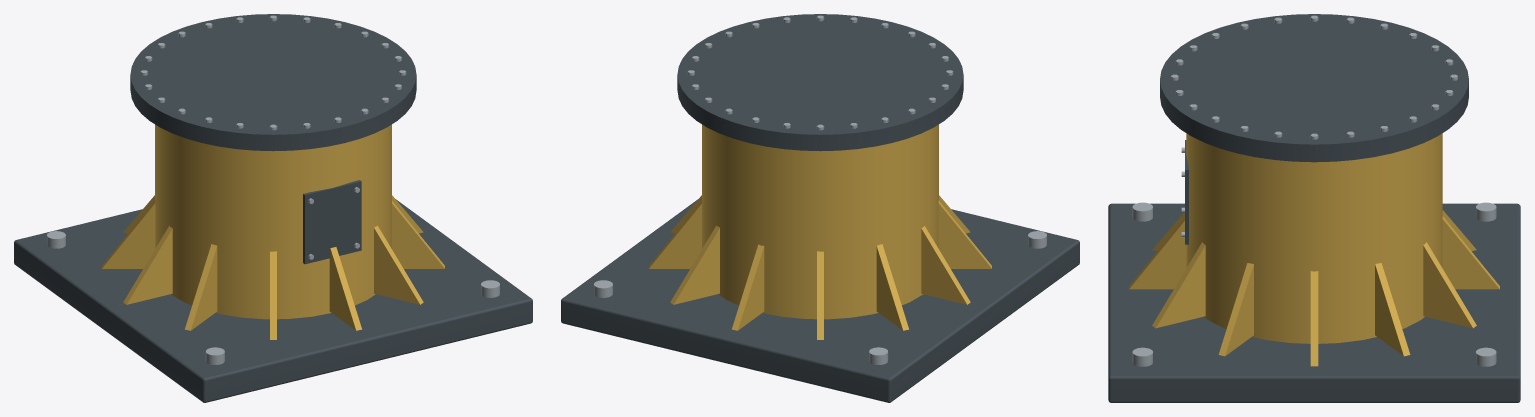
File: crane_pedestal.glb
The picture shows the model from 3 angles, left to right: view 1: azimuth 30°, elevation 25°; view 2: azimuth 150°, elevation 25°; view 3: azimuth 270°, elevation 25°; orthographic projection. The views are drawn at different scales.
Visible parts, largest first — view 1: crane_pedestal; view 2: crane_pedestal; view 3: crane_pedestal.
Boxes of the visible parts, x1,y1,x2,y2 form: crane_pedestal: (14,14,532,402); crane_pedestal: (561,14,1079,402); crane_pedestal: (1108,14,1520,402).
Size of the model in its own units: 3.6 by 2.32 by 3.6.
